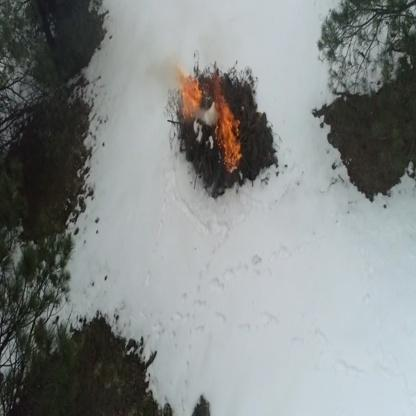Fire: (182, 77, 200, 122), (216, 120, 239, 144), (226, 144, 241, 172), (218, 96, 228, 125), (225, 112, 234, 126), (216, 80, 220, 96), (205, 83, 209, 95)
